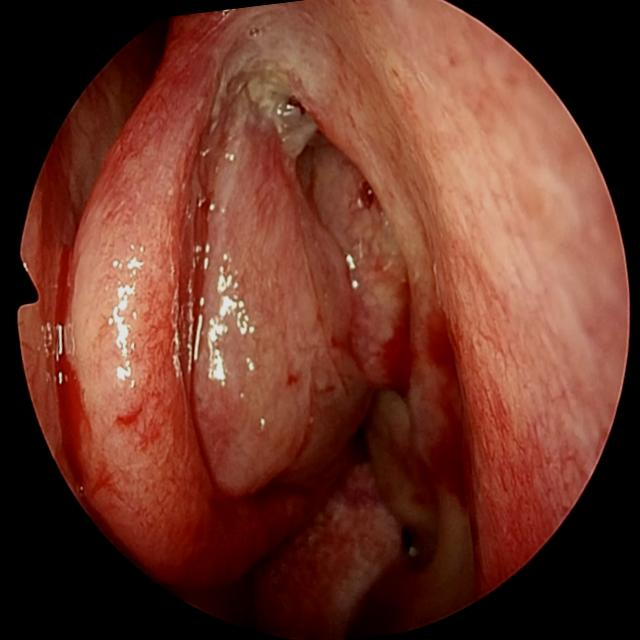POLYPS: (181, 72, 327, 516), (290, 86, 417, 403), (249, 565, 414, 640), (358, 388, 437, 535)
